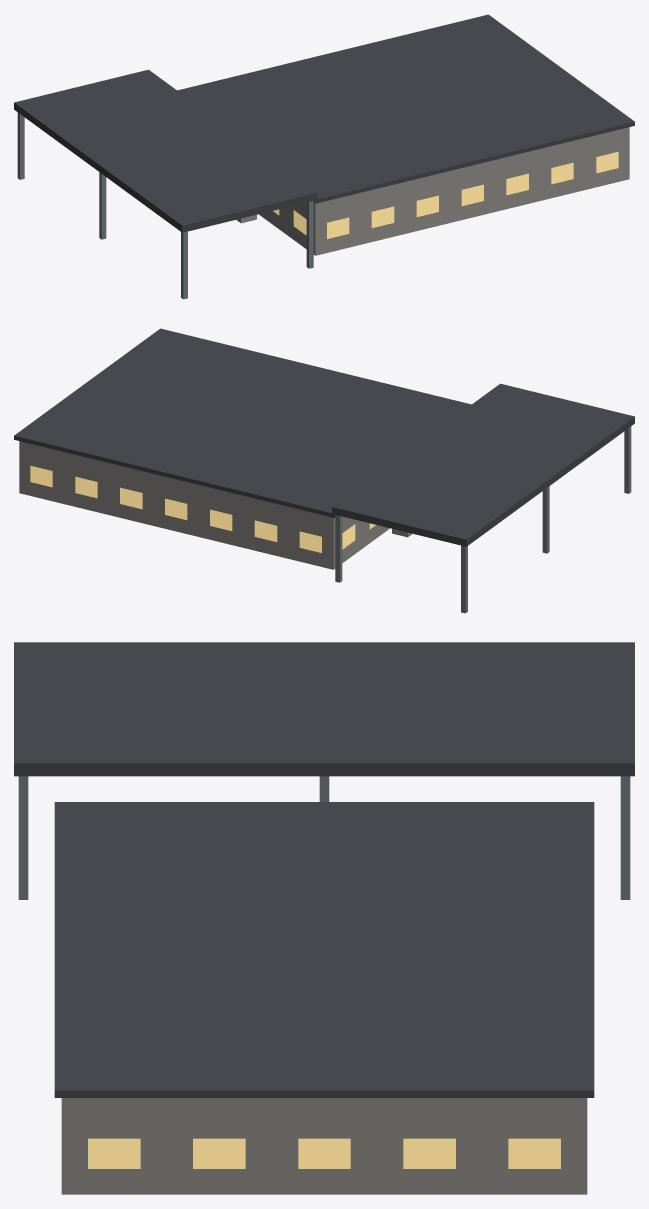
Rendered from h28_port_cbp_main.gltf.
3 renders of one model, top to bottom at view 1: azimuth 30°, elevation 25°; view 2: azimuth 150°, elevation 25°; view 3: azimuth 270°, elevation 25°, orthographic. The views are drawn at different scales.
Parts seen in each view (by area): view 1: h28_port_cbp_main; view 2: h28_port_cbp_main; view 3: h28_port_cbp_main.
Part boxes in pixels (box(x1,y1,x2,y2)): h28_port_cbp_main: box(14, 14, 634, 299); h28_port_cbp_main: box(14, 328, 634, 613); h28_port_cbp_main: box(14, 642, 634, 1194).
Bounding box in the file's own units: 41.3 × 6.4 × 26.
